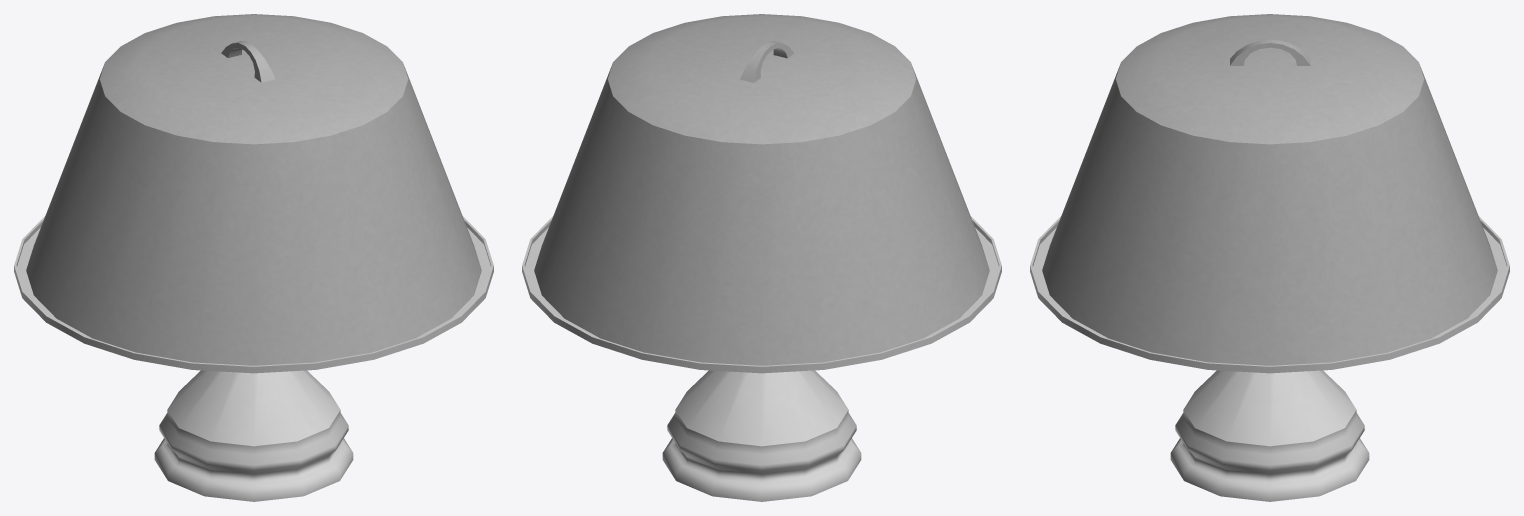
File: CakeStand.fbx
3 renders of one model, left to right at view 1: azimuth 30°, elevation 25°; view 2: azimuth 150°, elevation 25°; view 3: azimuth 270°, elevation 25°, orthographic.
Parts seen in each view (by area): view 1: Cake stand; view 2: Cake stand; view 3: Cake stand.
Part boxes in pixels (x1,y1,x2,y2): Cake stand: (14,14,493,501); Cake stand: (522,14,1001,501); Cake stand: (1030,14,1509,501).
Size of the model in its own units: 20 by 19.14 by 20.
